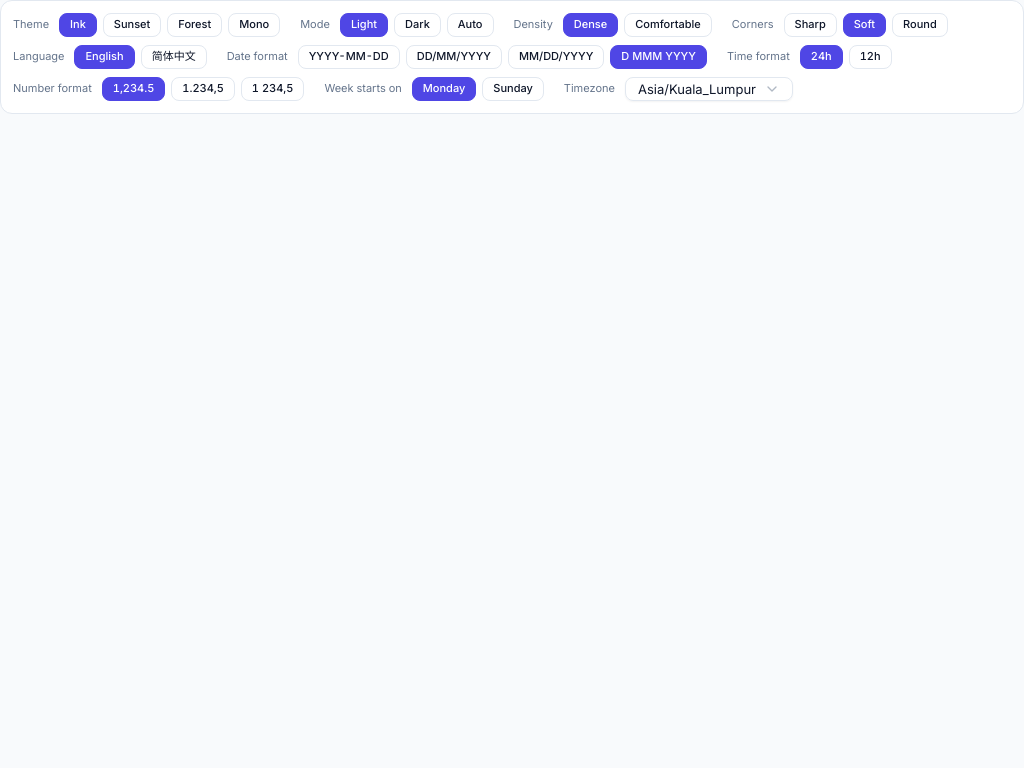
Test: PrefsBar › choosing a timezone persists it
Click the dropdown named "Timezone" at [709, 89], box [625,77,793,101]
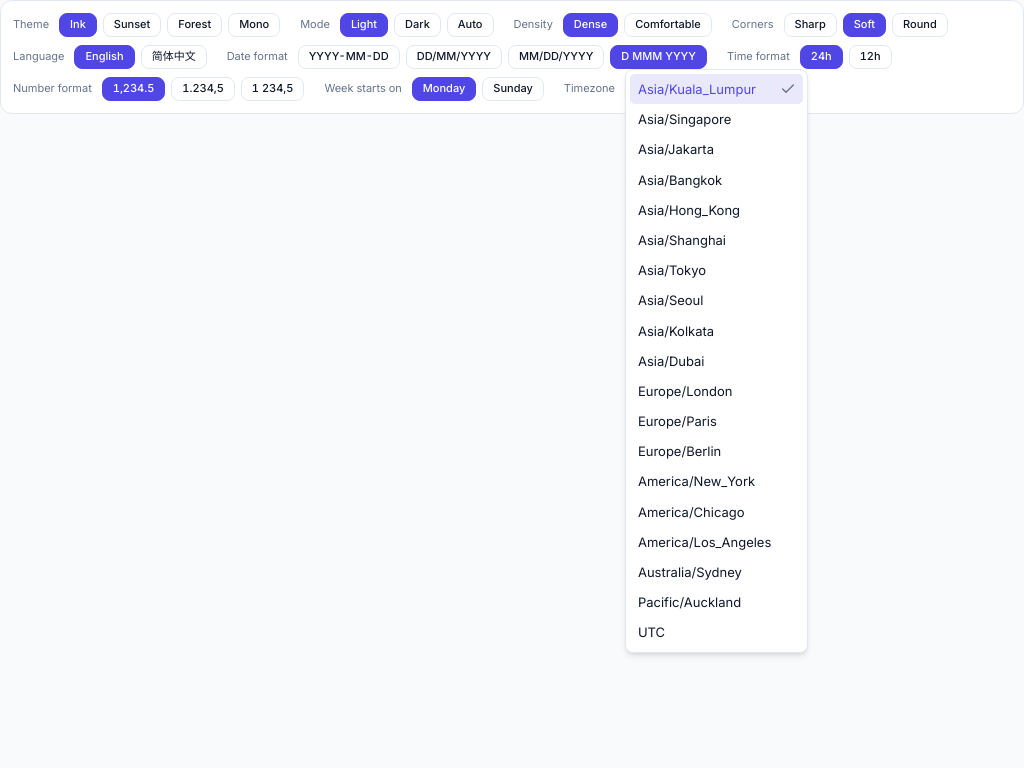
Click the option "Europe/London" at [685, 391], box [638,383,732,399]
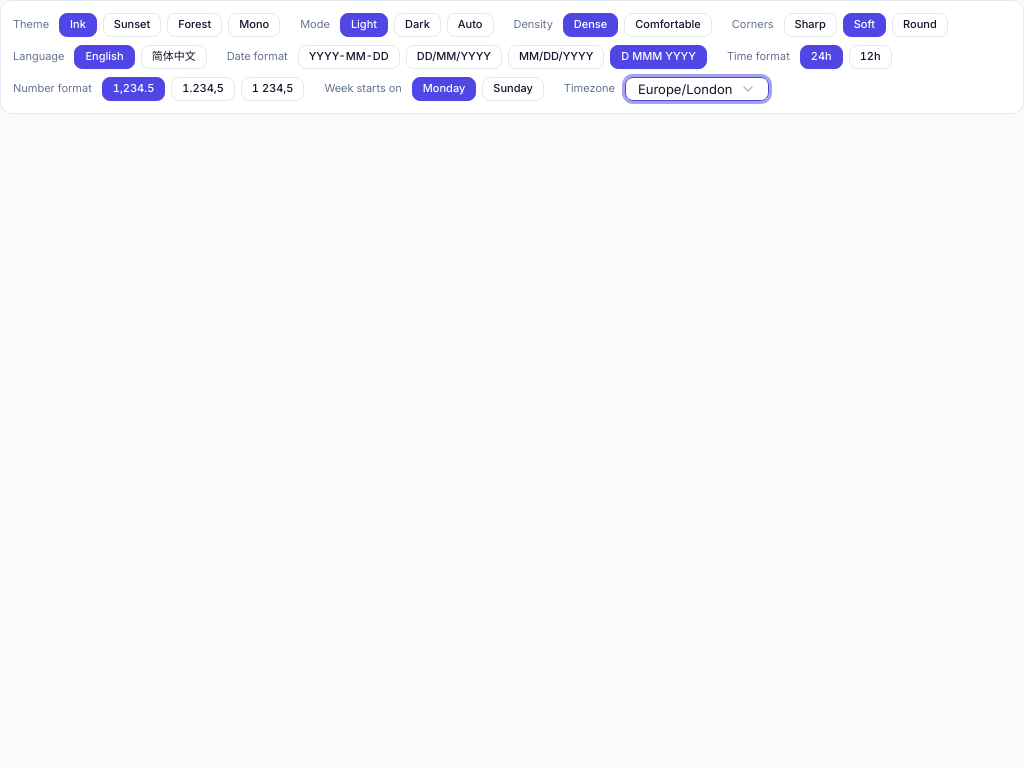
Now the dropdown named "Timezone" reads "Europe/London", box [625,77,769,101]
